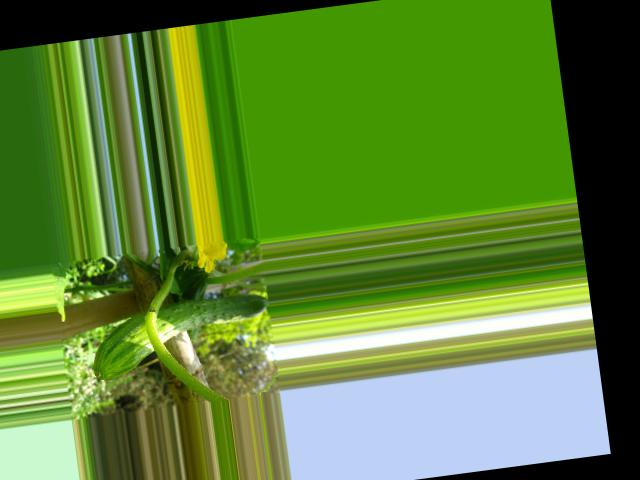cucumber: (86, 290, 275, 380)
